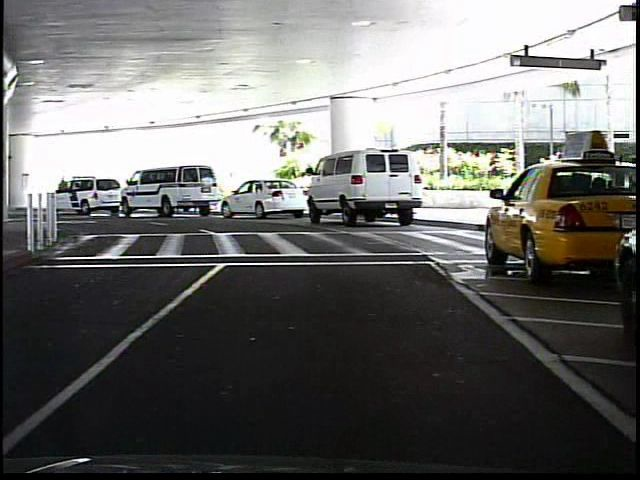person: (56, 174, 72, 212)
